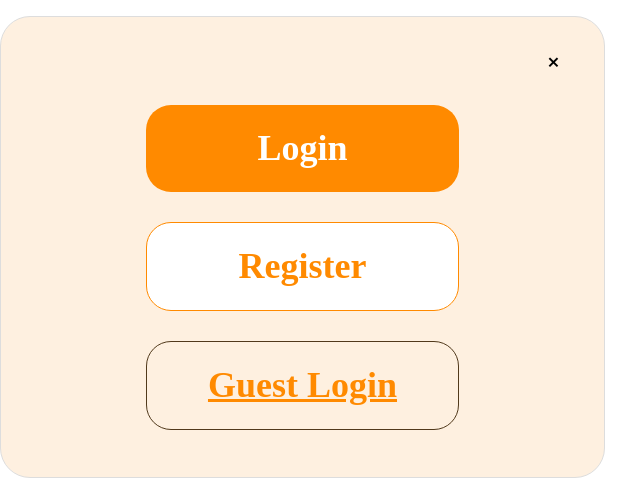
Test case: AuthForm › handles register form selection correctly
Click the button "Register" at [302, 266], box [146,222,459,311]
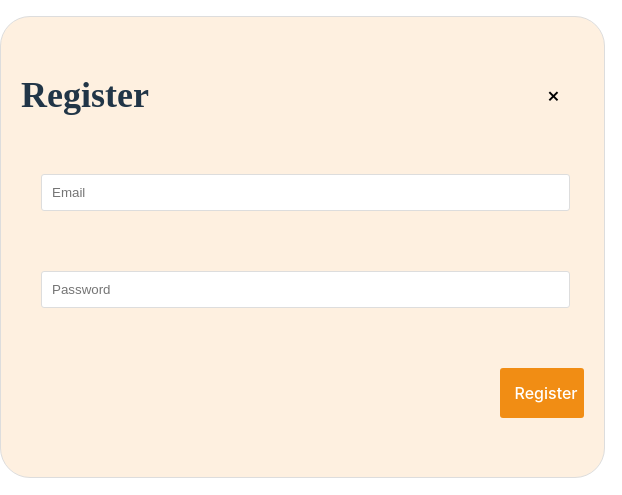
Now the heading "Register" is shown, box [21,67,149,124]
